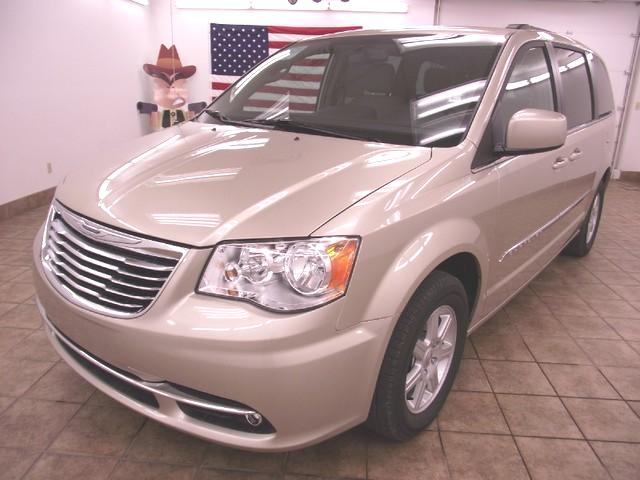Chrysler: (56, 206, 147, 249)
